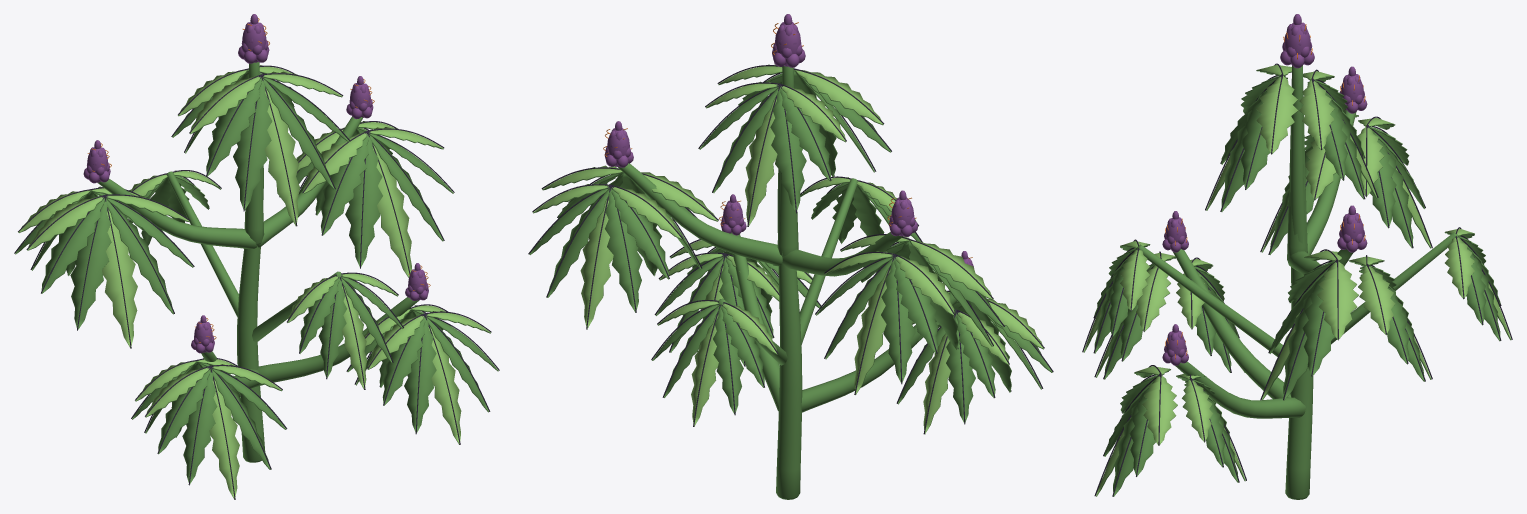
The model's file is herb_growing.glb.
3 renders of one model, left to right at view 1: azimuth 30°, elevation 25°; view 2: azimuth 150°, elevation 25°; view 3: azimuth 270°, elevation 25°, orthographic. The views are drawn at different scales.
Visible parts, largest first — view 1: cannabis_compact_growing_Geometry; view 2: cannabis_compact_growing_Geometry; view 3: cannabis_compact_growing_Geometry.
Boxes of the visible parts, left/top/right/bottom form: cannabis_compact_growing_Geometry: left=14, top=14, right=499, bottom=499; cannabis_compact_growing_Geometry: left=528, top=14, right=1053, bottom=499; cannabis_compact_growing_Geometry: left=1082, top=14, right=1512, bottom=499.
Size of the model in its own units: 0.4293 by 0.4387 by 0.3537.
